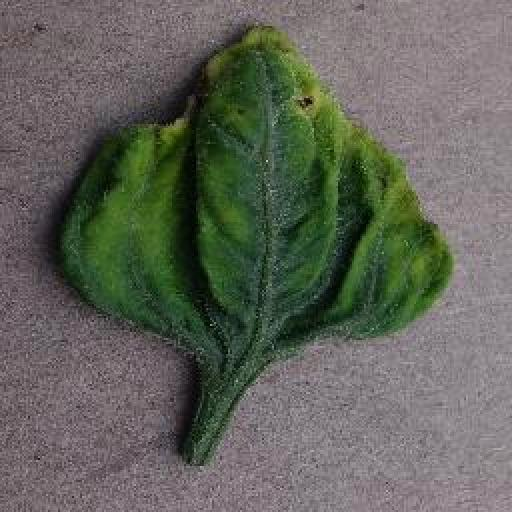disease_tomato: (51, 20, 456, 350)
